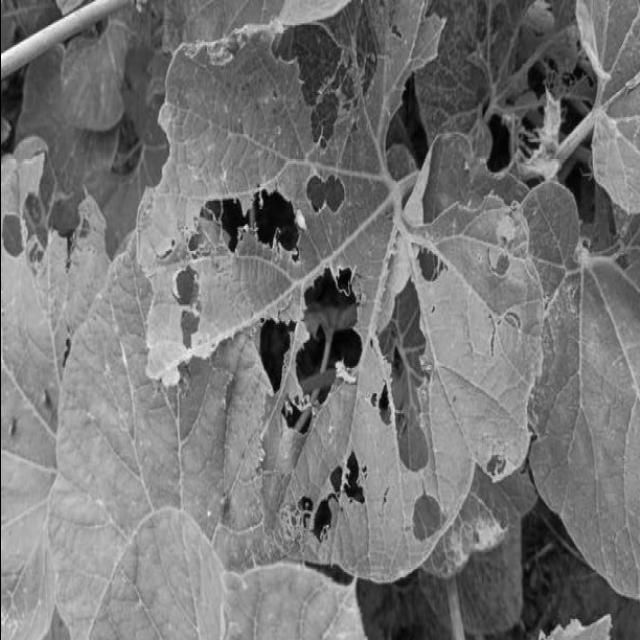Pumpkin Beetle: (276, 264, 388, 559), (164, 178, 296, 348), (406, 214, 450, 559), (0, 352, 64, 566), (0, 378, 68, 562), (0, 155, 104, 275), (465, 181, 531, 311), (199, 3, 269, 87), (198, 442, 255, 540), (468, 401, 512, 499), (305, 170, 352, 220)
